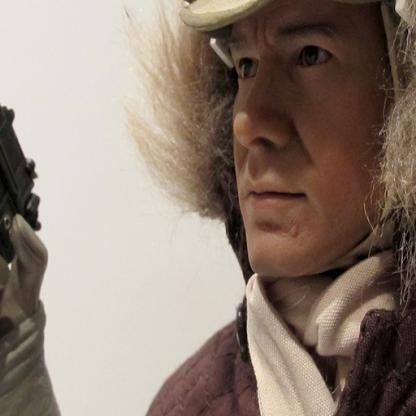gun: (0, 0, 46, 373)
